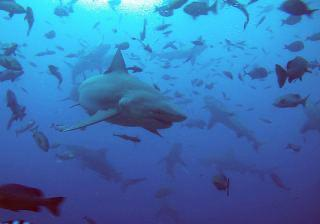Shark -Selachimorpha-: (60, 40, 188, 148)
